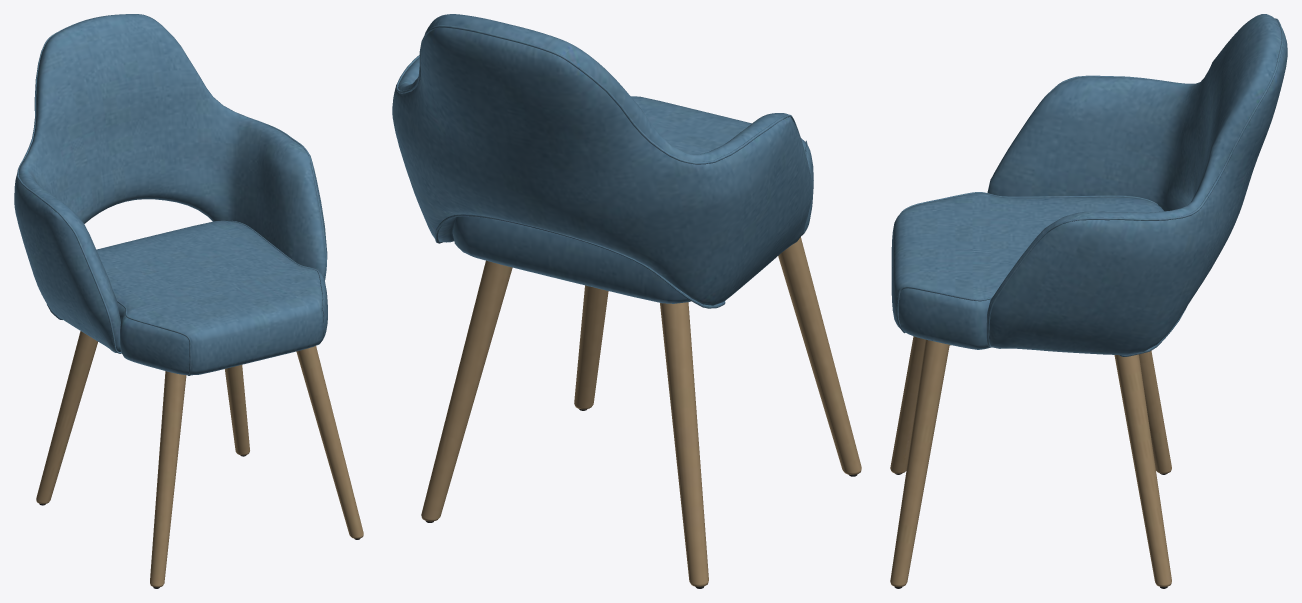
File: B07HPDLVLC.glb
3 views of the same model, side by side, from view 1: azimuth 30°, elevation 25°; view 2: azimuth 150°, elevation 25°; view 3: azimuth 270°, elevation 25° (orthographic). The views are drawn at different scales.
Visible parts, largest first — view 1: RootNode; view 2: RootNode; view 3: RootNode.
Boxes of the visible parts, bbox=[...] form: RootNode: bbox=[14, 14, 363, 588]; RootNode: bbox=[392, 14, 861, 588]; RootNode: bbox=[890, 14, 1287, 588].
Bounding box in the file's own units: 0.5893 × 0.9203 × 0.6662.
Materials: 1 (1 with a texture image).
